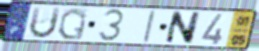3: (96, 7, 126, 43)
4: (200, 12, 225, 46)
I: (141, 9, 158, 44)
N: (163, 10, 203, 45)
Q: (56, 7, 89, 42)
U: (28, 6, 63, 40)
